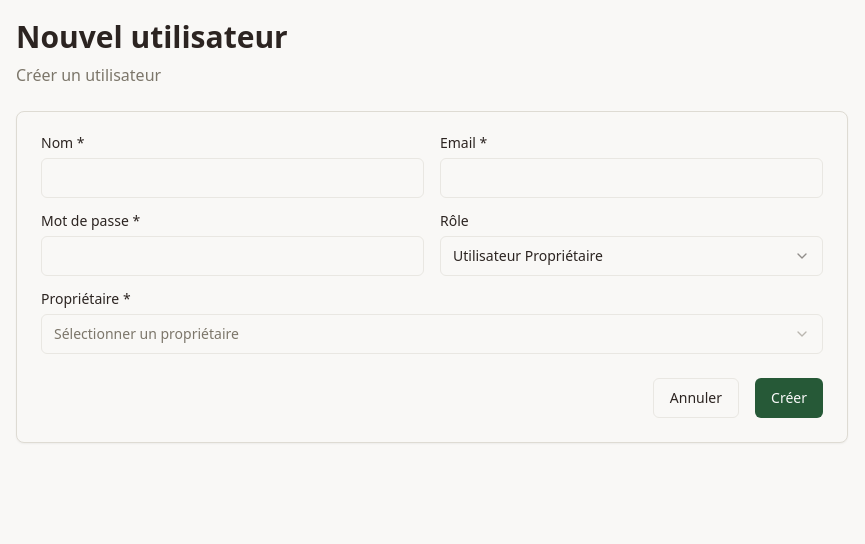
Test case: UsersCreatePage › renders the create page and shows validation errors
The image size is (865, 544).
Expected: the heading "Nouvel utilisateur" is shown, [16,16,288,57]
Click the button "Créer": (789, 398) [755,378,823,418]
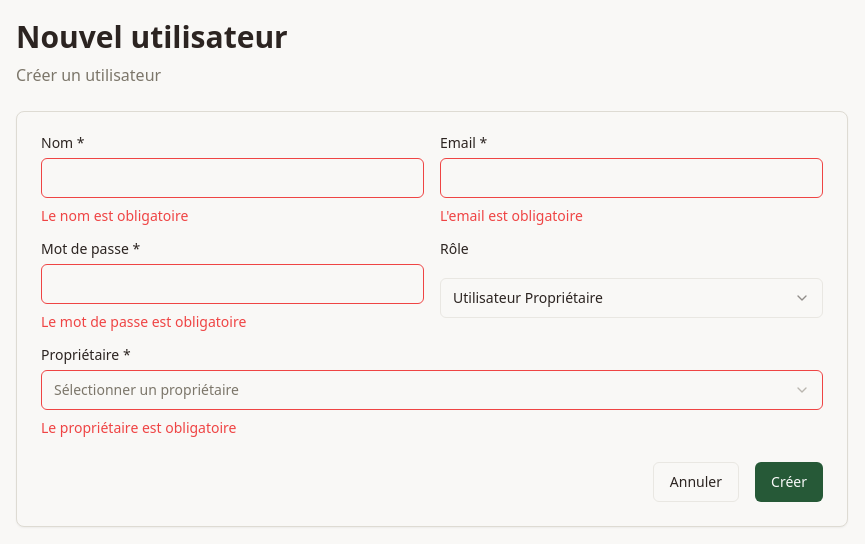
Expected: the text "Le nom est obligatoire" is shown, [41,206,188,225]
Expected: the text "L'email est obligatoire" is shown, [440,206,583,225]
Expected: the text "Le mot de passe est obligatoire" is shown, [41,312,246,331]
